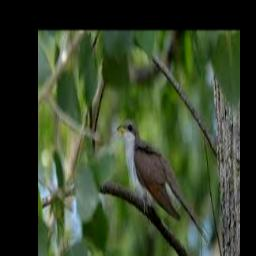Cuckoo: (116, 118, 210, 245)
